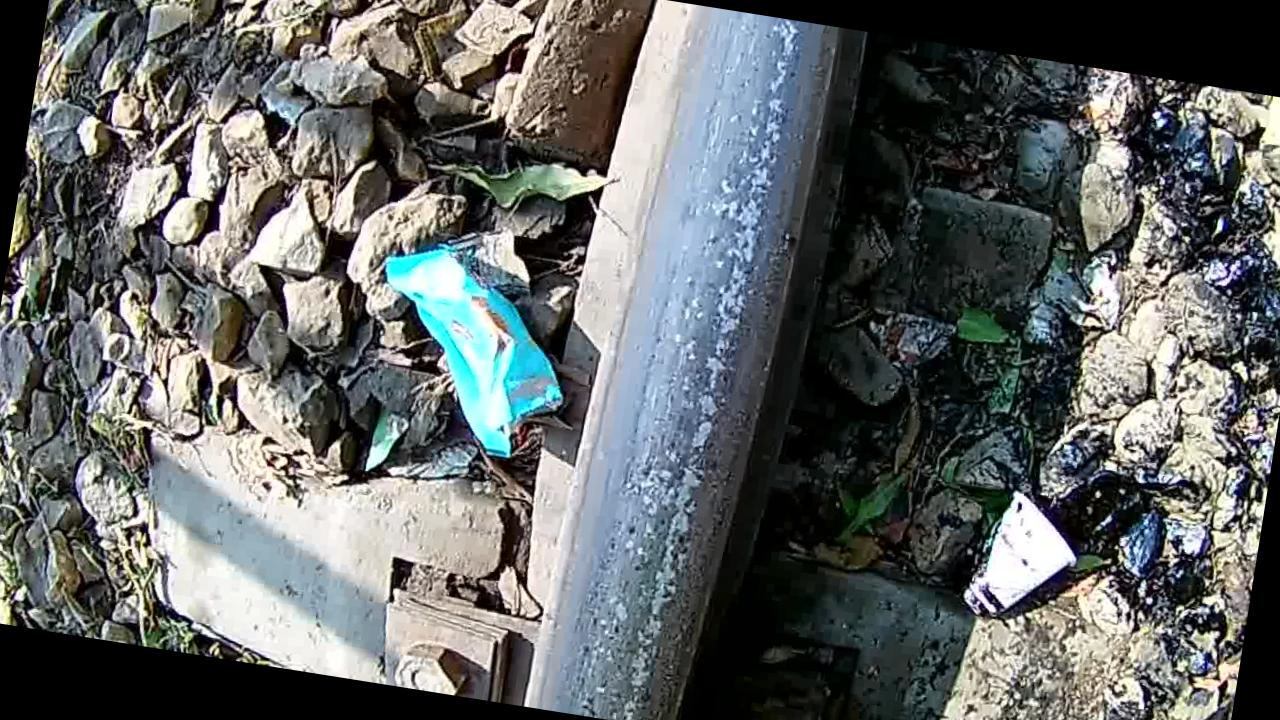clip_missing: (530, 0, 854, 720)
